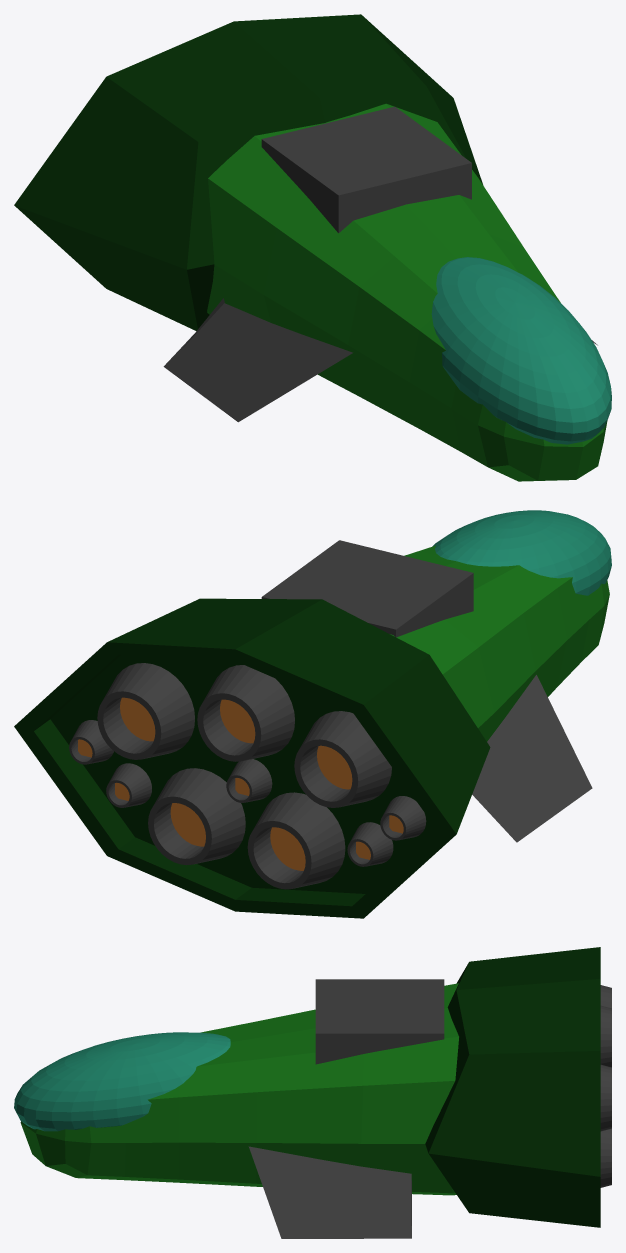
File: Tanque ajeitado 1.fbx
3 views of the same model, one above another, from view 1: azimuth 30°, elevation 25°; view 2: azimuth 150°, elevation 25°; view 3: azimuth 270°, elevation 25° (orthographic). The views are drawn at different scales.
Visible parts, largest first — view 1: Cube.001, Cube, Sphere, Cube.003, Cube.004; view 2: Cube.001, Cube, Cube.003, Cube.004, Sphere, Cylinder.004, Cylinder.002, Cylinder.000, Cylinder.003, Cylinder.001, Cylinder.008, Cylinder.007 (+8 smaller); view 3: Cube, Cube.001, Sphere, Cube.005, Cube.003, Cylinder.004, Cylinder.000, Cylinder.003.
Part boxes in pixels (x1=…): Cube.001: x1=14, y1=14, x2=482, y2=330; Cube: x1=207, y1=103, x2=607, y2=481; Sphere: x1=431, y1=257, x2=611, y2=444; Cube.003: x1=261, y1=106, x2=471, y2=233; Cube.004: x1=163, y1=298, x2=352, y2=422; Cube.001: x1=14, y1=598, x2=490, y2=918; Cube: x1=390, y1=545, x2=609, y2=741; Cube.003: x1=261, y1=540, x2=473, y2=637; Cube.004: x1=472, y1=675, x2=592, y2=842; Sphere: x1=432, y1=510, x2=611, y2=595; Cylinder.004: x1=97, y1=663, x2=194, y2=759; Cylinder.002: x1=247, y1=792, x2=345, y2=889; Cylinder.000: x1=197, y1=665, x2=294, y2=761; Cylinder.003: x1=148, y1=768, x2=245, y2=865; Cylinder.001: x1=294, y1=711, x2=391, y2=807; Cylinder.008: x1=380, y1=796, x2=426, y2=840; Cylinder.007: x1=106, y1=763, x2=151, y2=807; Cube: x1=20, y1=983, x2=458, y2=1195; Cube.001: x1=425, y1=947, x2=600, y2=1227; Sphere: x1=14, y1=1032, x2=230, y2=1131; Cube.005: x1=248, y1=1146, x2=411, y2=1238; Cube.003: x1=315, y1=979, x2=444, y2=1064; Cylinder.004: x1=600, y1=1064, x2=611, y2=1131; Cylinder.000: x1=600, y1=1005, x2=611, y2=1067; Cylinder.003: x1=600, y1=1128, x2=611, y2=1187.
Size of the model in its own units: 659 by 373 by 931.
